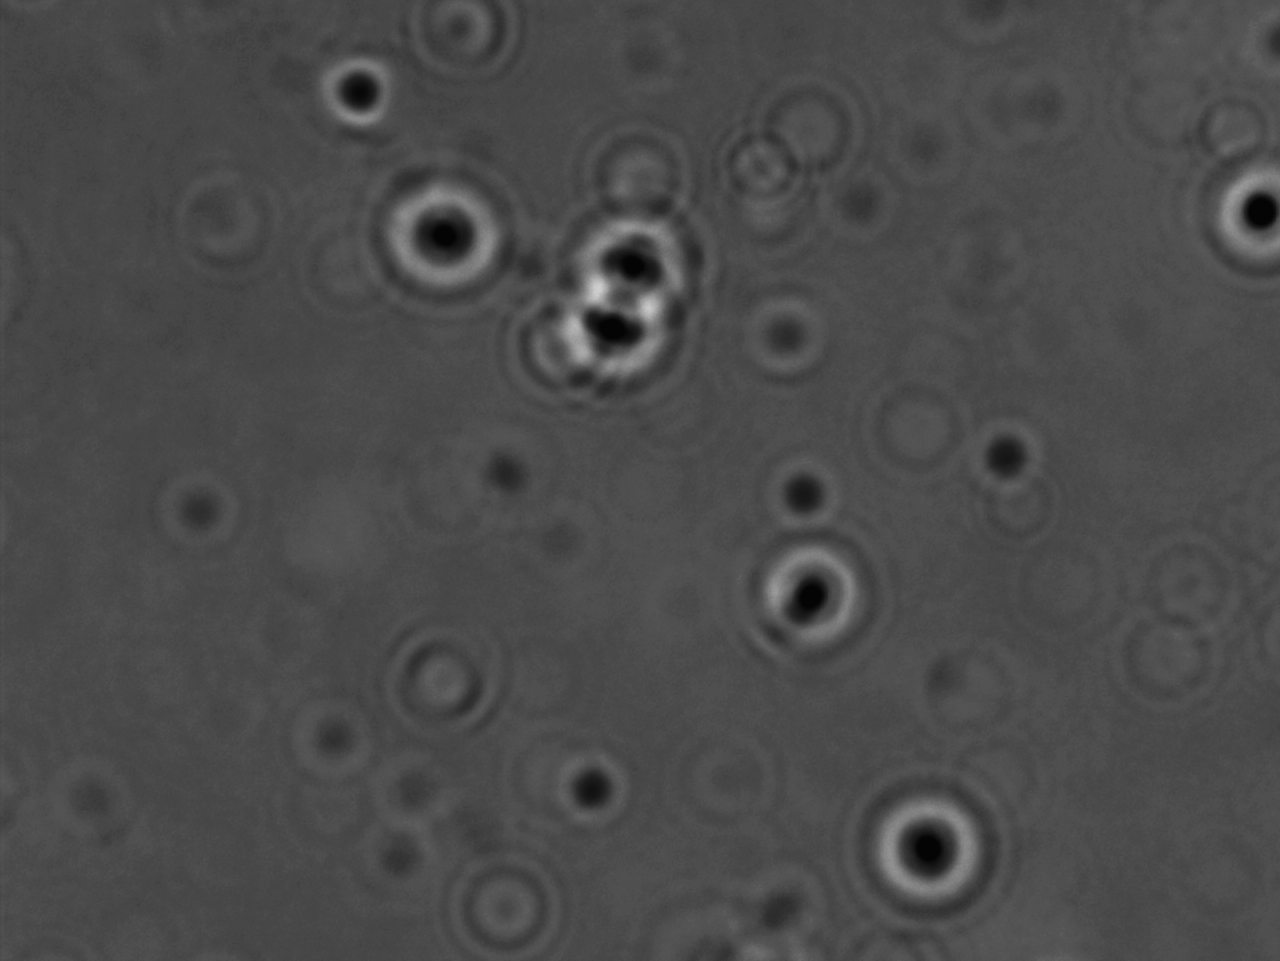depth:-24: (367, 161, 520, 309), (858, 769, 1008, 918), (743, 528, 889, 665), (1193, 158, 1280, 275)
